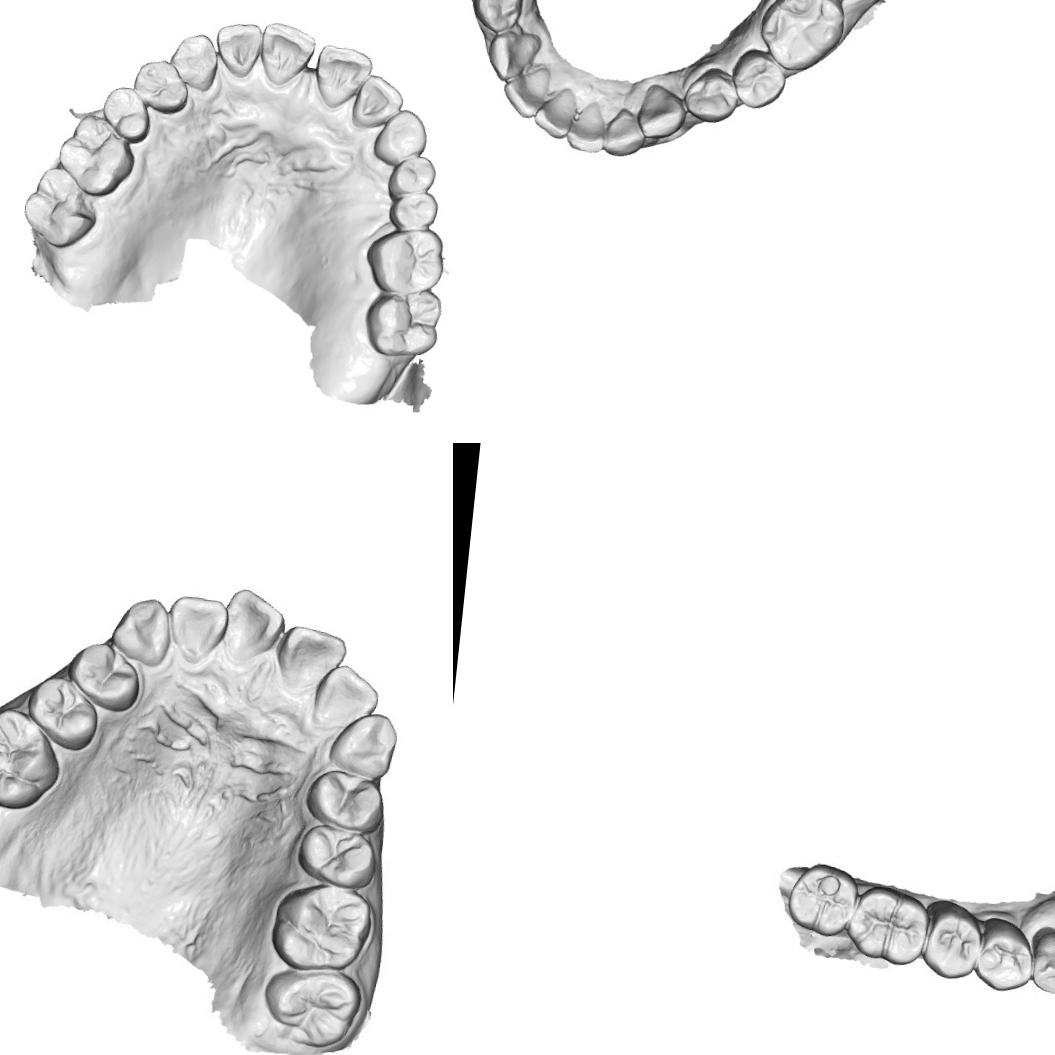canine: (113, 596, 174, 664), (335, 712, 396, 778), (371, 104, 430, 168), (167, 30, 220, 94), (485, 27, 543, 85), (636, 84, 688, 142), (1027, 922, 1055, 1002)
incisor: (311, 667, 378, 742), (277, 627, 347, 698), (217, 586, 280, 662), (310, 43, 375, 115), (256, 19, 319, 90), (167, 592, 226, 660), (348, 71, 408, 132), (211, 18, 264, 81), (500, 72, 546, 120), (603, 110, 648, 159), (564, 105, 608, 155), (531, 94, 573, 140)
molar: (264, 961, 359, 1050), (276, 885, 374, 969), (54, 109, 140, 201), (19, 162, 102, 252), (756, 0, 849, 75), (359, 282, 446, 362), (360, 222, 448, 300), (0, 708, 65, 807), (849, 889, 924, 965), (787, 860, 854, 936), (921, 904, 982, 979)
premolar: (297, 820, 383, 888), (68, 642, 145, 712), (309, 764, 387, 832), (26, 674, 98, 746), (129, 55, 193, 116), (731, 48, 788, 112), (98, 82, 154, 146), (979, 924, 1033, 990), (682, 68, 740, 125), (385, 151, 439, 201), (386, 188, 440, 234), (469, 0, 525, 35)
